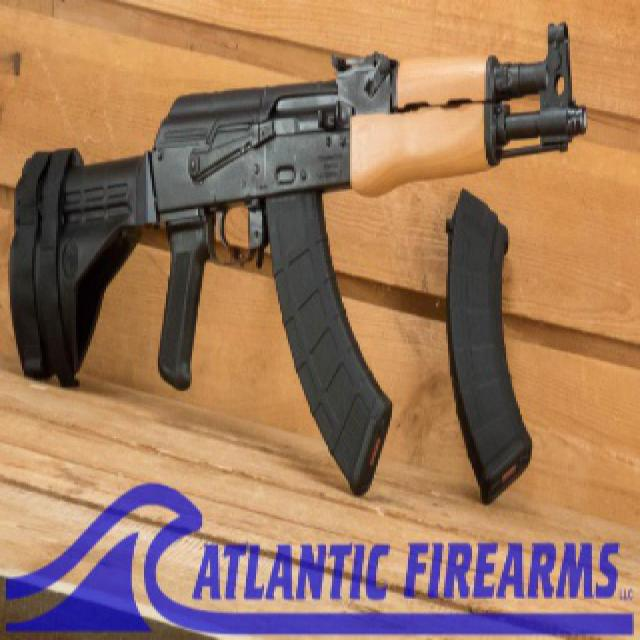long weapon: (2, 31, 620, 501)
